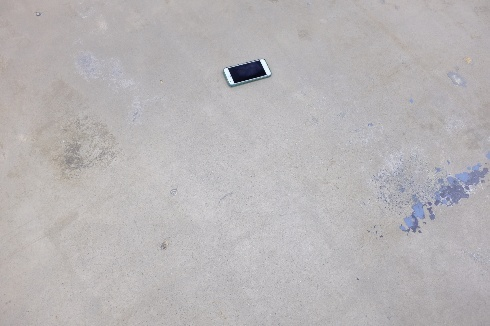phone: (223, 57, 272, 89)
